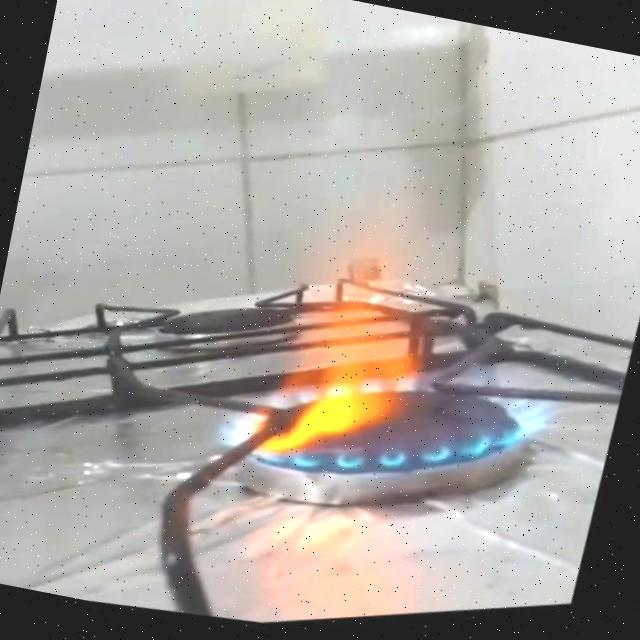fire: (156, 114, 629, 557)
